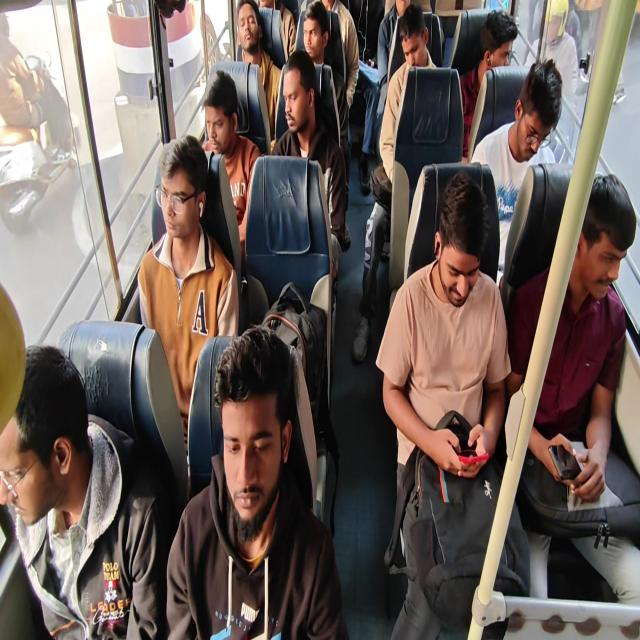person: (1, 1, 638, 638), (375, 171, 530, 638), (505, 171, 639, 603), (165, 324, 349, 638), (0, 343, 166, 639), (137, 134, 240, 460), (352, 4, 439, 362), (469, 58, 563, 281), (270, 49, 350, 277), (200, 70, 262, 268), (0, 8, 74, 164), (458, 9, 518, 158), (524, 0, 578, 162), (301, 0, 348, 150), (235, 0, 282, 141), (375, 0, 411, 170), (320, 0, 359, 110), (257, 0, 296, 66)
